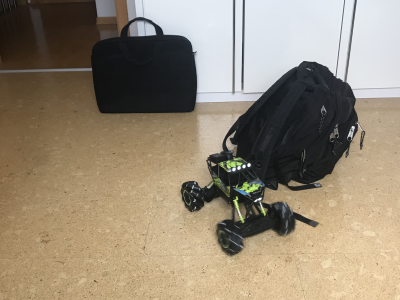remote control car: (177, 148, 298, 255)
